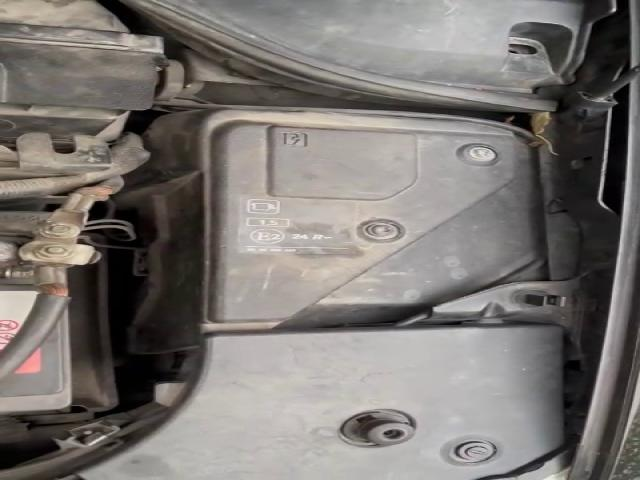accumulator: (0, 212, 87, 413)
fuse_box: (212, 124, 535, 321)
